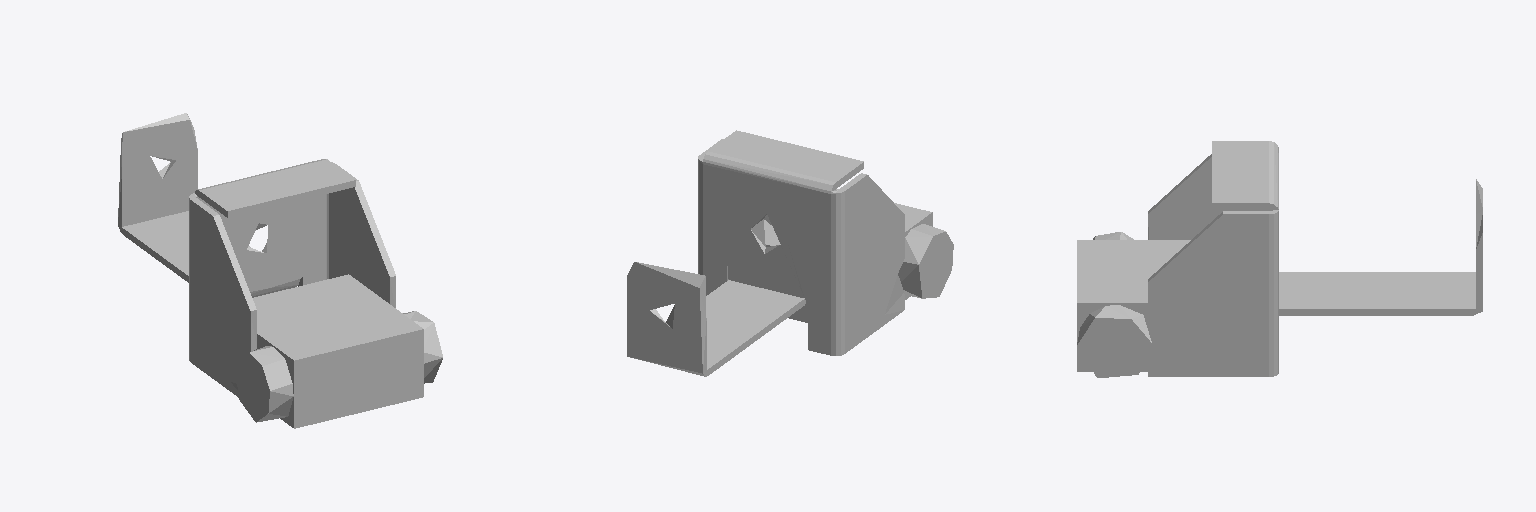
Rendered from dual_rm_75b_description_head_link1_collisions_head_link1_mesh.obj.
3 views of the same model, side by side, from view 1: azimuth 30°, elevation 25°; view 2: azimuth 150°, elevation 25°; view 3: azimuth 270°, elevation 25° (orthographic).
Size of the model in its own units: 0.053 by 0.05 by 0.1086.